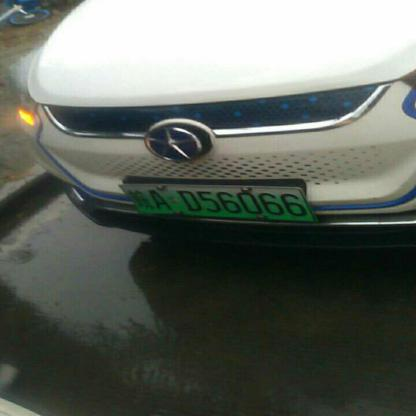lp: (118, 183, 315, 220)
